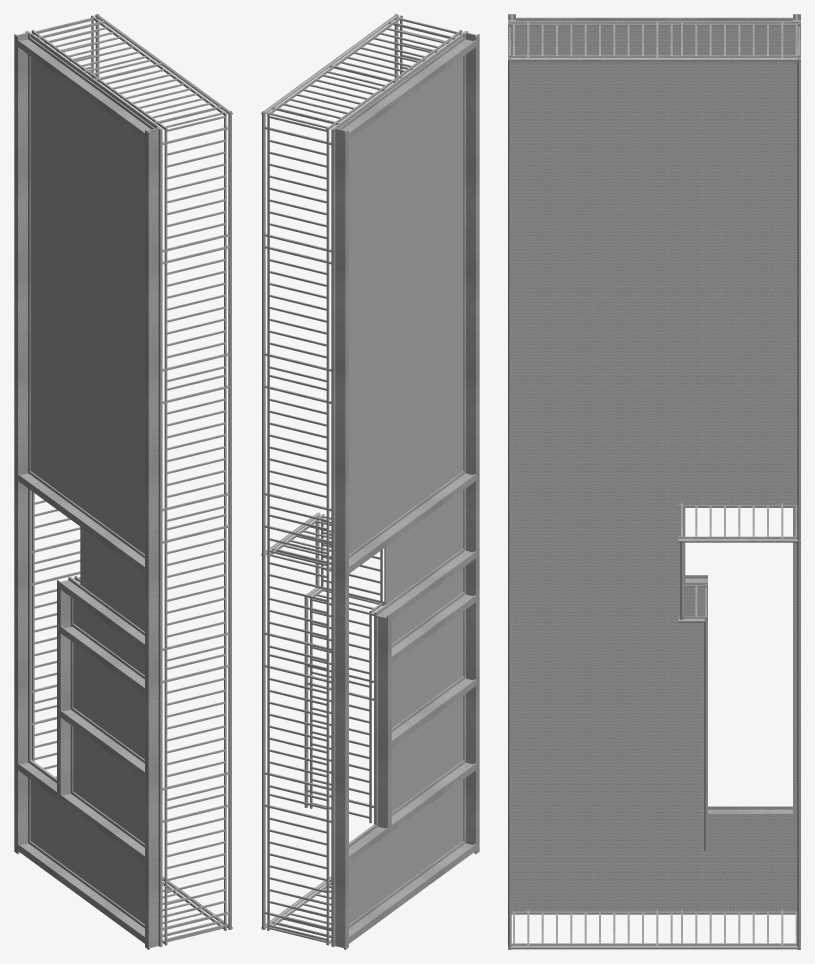
The model's file is Mesanino.fbx.
3 renders of one model, left to right at view 1: azimuth 30°, elevation 25°; view 2: azimuth 150°, elevation 25°; view 3: azimuth 270°, elevation 25°, orthographic. The views are drawn at different scales.
Parts seen in each view (by area): view 1: group_ 17.004, group_ 7.011, group_ 8.010, group_ 16.004, group_ 11.006, group_ 9.007, group_ 10.007, group_ 12.005, group_ 15.004, group_ 13.004, group_ 14.004, group_ 11.008 (+11 smaller); view 2: group_ 17.004, group_ 8.010, group_ 7.011, group_ 16.004, group_ 11.006, group_ 9.007, group_ 10.007, group_ 12.005, group_ 15.004, group_ 13.004, group_ 14.004, group_ 11.025 (+12 smaller); view 3: group_ 17.004, group_ 11.006, group_ 11.011, group_ 11.021, group_ 8.015, group_ 8.025, group_ 11.014.
Boxes of the visible parts, bbox=[...] form: group_ 17.004: bbox=[27, 31, 162, 946]; group_ 7.011: bbox=[145, 126, 161, 949]; group_ 8.010: bbox=[14, 31, 30, 854]; group_ 16.004: bbox=[57, 587, 73, 795]; group_ 11.006: bbox=[17, 37, 155, 140]; group_ 9.007: bbox=[17, 841, 145, 944]; group_ 10.007: bbox=[17, 471, 145, 574]; group_ 12.005: bbox=[17, 760, 145, 863]; group_ 15.004: bbox=[57, 577, 145, 651]; group_ 13.004: bbox=[59, 707, 145, 779]; group_ 14.004: bbox=[60, 623, 145, 695]; group_ 11.008: bbox=[228, 650, 231, 790]; group_ 17.004: bbox=[331, 31, 466, 946]; group_ 8.010: bbox=[332, 126, 348, 949]; group_ 7.011: bbox=[463, 31, 479, 854]; group_ 16.004: bbox=[375, 617, 391, 828]; group_ 11.006: bbox=[338, 37, 476, 140]; group_ 9.007: bbox=[348, 841, 476, 944]; group_ 10.007: bbox=[348, 471, 476, 574]; group_ 12.005: bbox=[348, 760, 476, 863]; group_ 15.004: bbox=[375, 548, 476, 622]; group_ 13.004: bbox=[390, 676, 476, 748]; group_ 14.004: bbox=[391, 592, 476, 663]; group_ 11.025: bbox=[304, 668, 308, 807]; group_ 17.004: bbox=[508, 21, 800, 911]; group_ 11.006: bbox=[516, 17, 792, 20]; group_ 11.011: bbox=[508, 57, 675, 61]; group_ 11.021: bbox=[508, 945, 675, 949]; group_ 8.015: bbox=[508, 23, 675, 26]; group_ 8.025: bbox=[511, 911, 675, 914]; group_ 11.014: bbox=[676, 57, 800, 61].
Size of the model in its own units: 1.31 by 12.15 by 3.62.
Materials: 2 (2 with a texture image).
